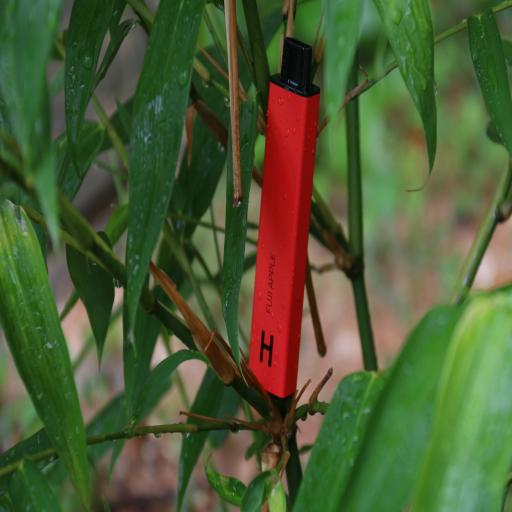lighter: (255, 17, 327, 422)
